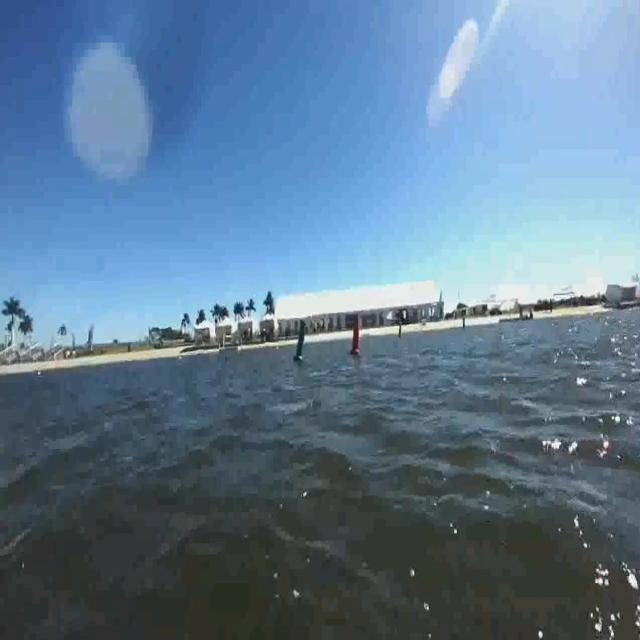green-column-buoy: (291, 317, 309, 364)
red-column-buoy: (350, 318, 363, 358)
